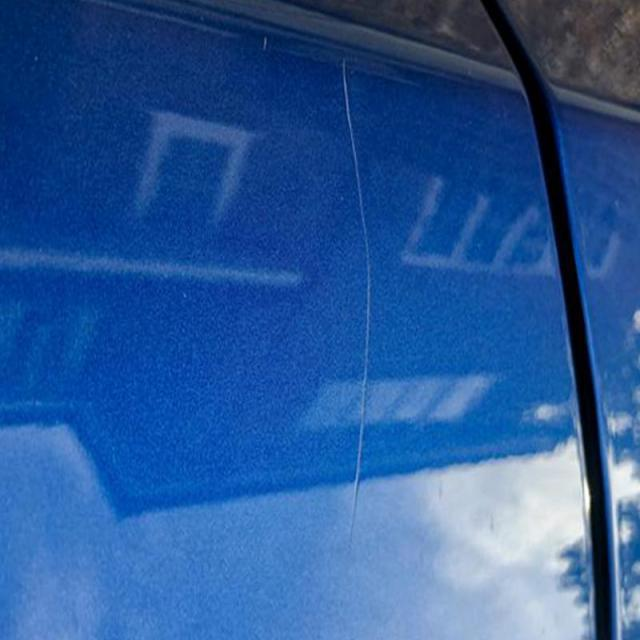scratch: (328, 43, 382, 571)
